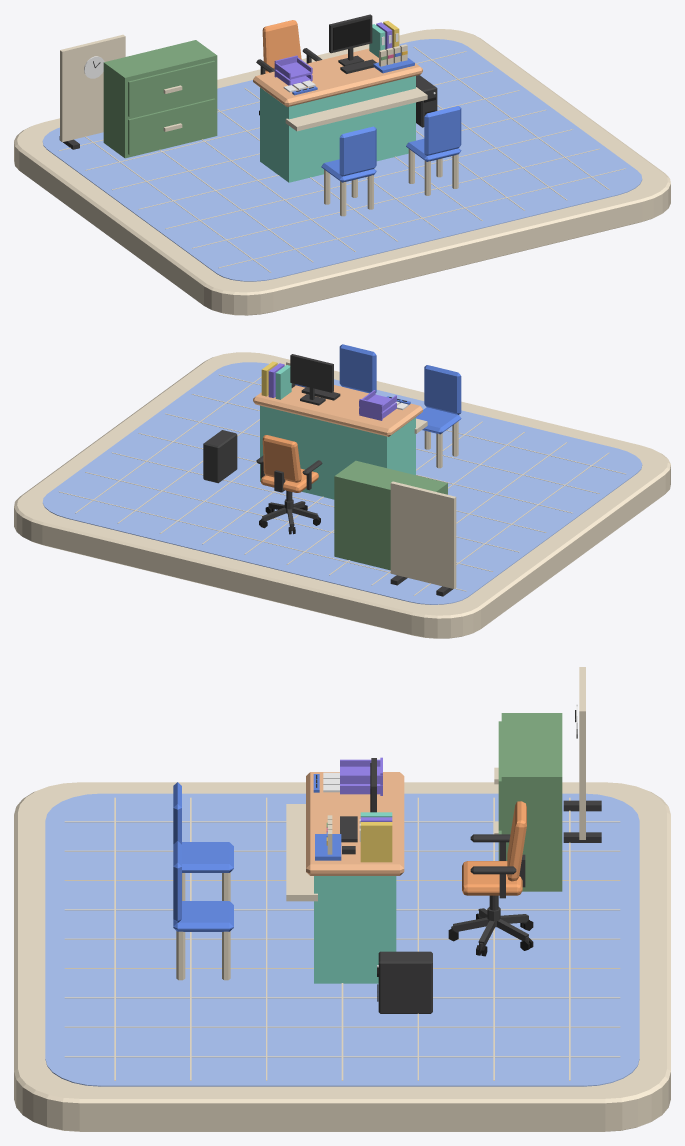
File: room.fbx
3 views of the same model, one above another, from view 1: azimuth 30°, elevation 25°; view 2: azimuth 150°, elevation 25°; view 3: azimuth 270°, elevation 25° (orthographic). The views are drawn at different scales.
Visible parts, largest first — view 1: COM-02 Floor Surface, COM-01 Rounded Base Direct, Cabinet, Counter body, Panel, Countertop, Visitor shelf, COM-04_Chair_blender_direct, Backrest, Backrest.001, Frame, Tower (+5 smaller); view 2: COM-02 Floor Surface, COM-01 Rounded Base Direct, Counter body, Cabinet, Panel, Countertop, COM-04_Chair_blender_direct, Backrest, Backrest.001, Tower, Frame, Seat (+2 smaller); view 3: COM-02 Floor Surface, COM-01 Rounded Base Direct, Cabinet, Counter body, Countertop, COM-04_Chair_blender_direct, Tower, Visitor shelf, Seat.001, Seat, File.002, Panel (+7 smaller).
Boxes of the visible parts, x1,y1,x2,y2 form: COM-02 Floor Surface: (42, 39, 642, 281); COM-01 Rounded Base Direct: (14, 29, 670, 315); Cabinet: (103, 40, 217, 158); Counter body: (260, 76, 415, 182); Panel: (60, 34, 125, 142); Countertop: (253, 48, 422, 107); Visitor shelf: (285, 87, 427, 131); COM-04_Chair_blender_direct: (256, 20, 322, 115); Backrest: (339, 126, 376, 176); Backrest.001: (424, 106, 461, 155); Frame: (329, 14, 372, 66); Tower: (416, 75, 437, 127); COM-02 Floor Surface: (42, 362, 642, 604); COM-01 Rounded Base Direct: (14, 352, 670, 638); Counter body: (260, 405, 415, 499); Cabinet: (334, 460, 447, 570); Panel: (390, 481, 456, 588); Countertop: (253, 385, 422, 436); COM-04_Chair_blender_direct: (256, 435, 322, 534); Backrest: (424, 365, 461, 414); Backrest.001: (339, 344, 376, 393); Tower: (203, 430, 237, 483); Frame: (290, 354, 333, 405); Seat: (416, 407, 461, 434); COM-02 Floor Surface: (45, 793, 639, 1086); COM-01 Rounded Base Direct: (14, 782, 670, 1131); Cabinet: (494, 713, 562, 891); Counter body: (314, 876, 396, 983); Countertop: (306, 772, 404, 875); COM-04_Chair_blender_direct: (448, 801, 533, 956); Tower: (378, 951, 432, 1013); Visitor shelf: (286, 804, 317, 901); Seat.001: (173, 901, 233, 931); Seat: (182, 842, 233, 872); File.002: (360, 822, 392, 862); Panel: (579, 667, 585, 839).
Size of the model in its own units: 600 by 187 by 520.
